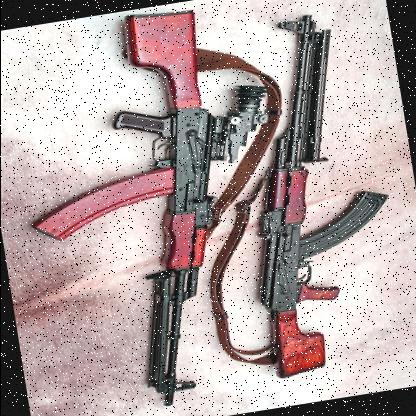rifle: (0, 0, 290, 416), (180, 2, 416, 390)
